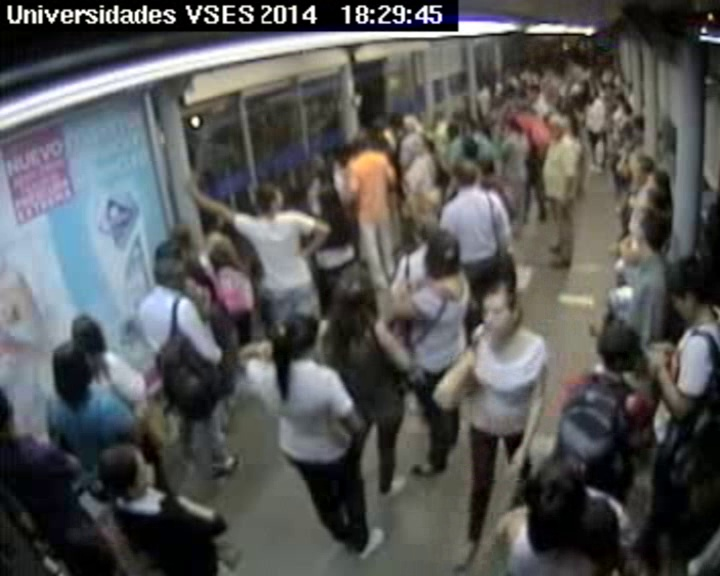person: (529, 461, 592, 538), (97, 443, 154, 500), (326, 263, 378, 318), (664, 259, 713, 317), (477, 283, 521, 335), (597, 320, 639, 373), (51, 342, 94, 388), (275, 316, 316, 361), (428, 232, 462, 273), (72, 318, 109, 354), (156, 259, 187, 293), (636, 219, 665, 250), (255, 184, 283, 212), (158, 243, 183, 270), (455, 161, 479, 186), (210, 244, 234, 268), (548, 113, 570, 138), (410, 222, 433, 245), (170, 223, 191, 247), (318, 189, 339, 211), (205, 208, 226, 230), (462, 139, 479, 158), (337, 144, 354, 163), (355, 132, 373, 149), (412, 136, 428, 154), (313, 154, 329, 172), (474, 128, 491, 144), (388, 111, 404, 127), (636, 158, 651, 175), (651, 173, 666, 190), (401, 116, 417, 131), (505, 119, 520, 134), (518, 97, 533, 112), (369, 122, 383, 138), (465, 103, 480, 117), (446, 125, 460, 140), (547, 89, 560, 104), (566, 82, 578, 97), (559, 98, 572, 111), (602, 67, 613, 82), (589, 64, 601, 77), (577, 81, 589, 94), (529, 85, 541, 98), (479, 73, 492, 85), (611, 72, 623, 84), (492, 96, 504, 108), (633, 116, 644, 128), (588, 87, 598, 99), (621, 103, 631, 114), (621, 124, 631, 135), (504, 67, 514, 78), (503, 87, 513, 98), (539, 64, 549, 74), (567, 72, 576, 83), (614, 93, 623, 103), (565, 57, 574, 66), (523, 62, 531, 70)
